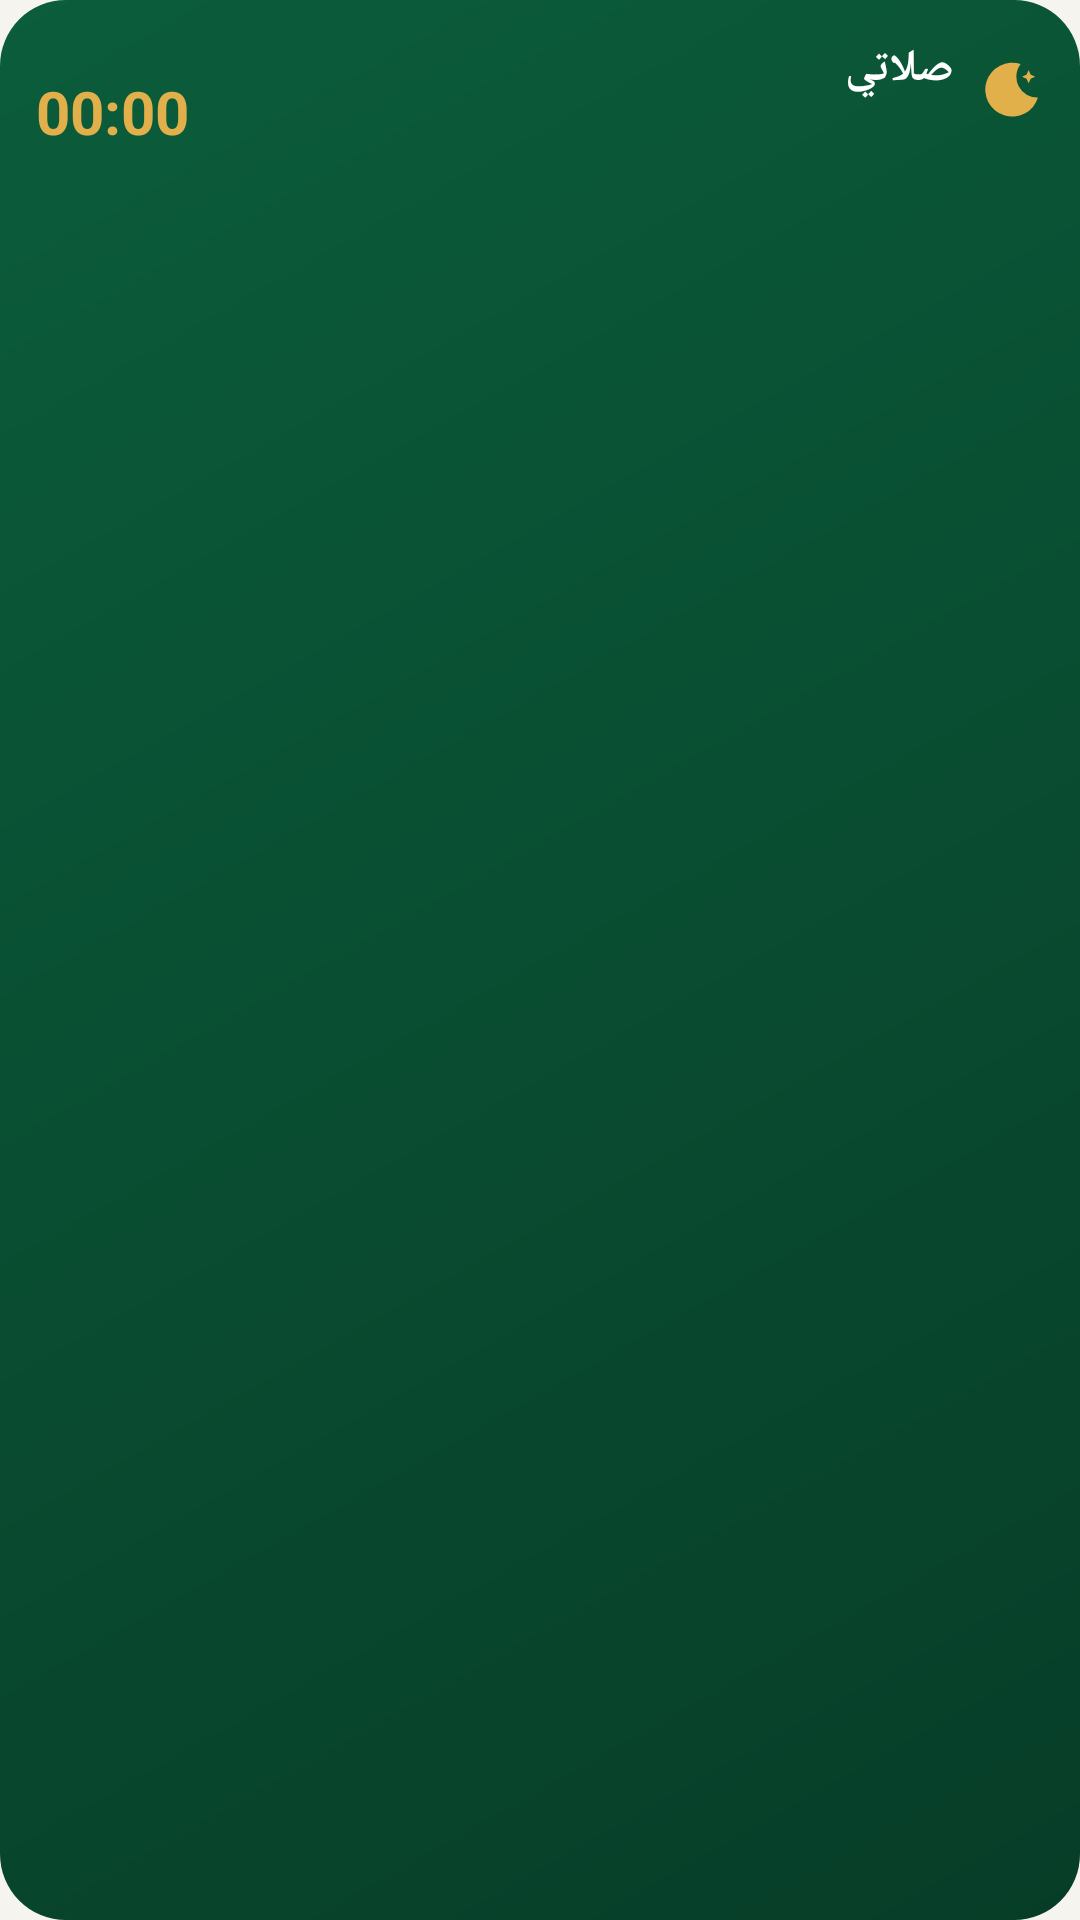

Icon bounding boxes for this 1080×1920 phone screenshot, format bbox(x1, y1, x2, y2):
widget moon: bbox(985, 62, 1038, 117)
